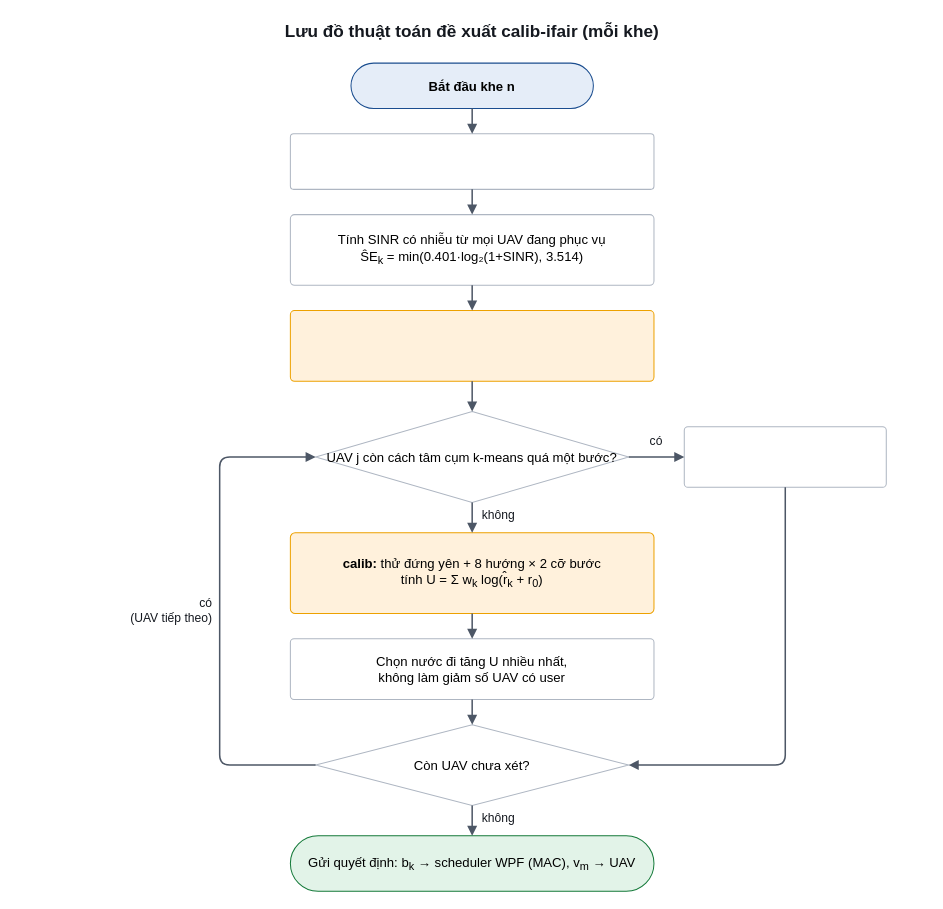
Some shapes in this 943 by 909 pixel diagram are drawn without their labels. Here are the shapes that lost their labels. From the top down, the centre of each, then its label:
(471,161): Nối mỗi user với UAV có độ lợi lớn nhất (a k )
(471,345): ifair: b k ∝ w k / max(ŜE k , 0.05) (w = 1/2/4 theo nhóm)
(784,456): Bay thẳng về tâm cụm
